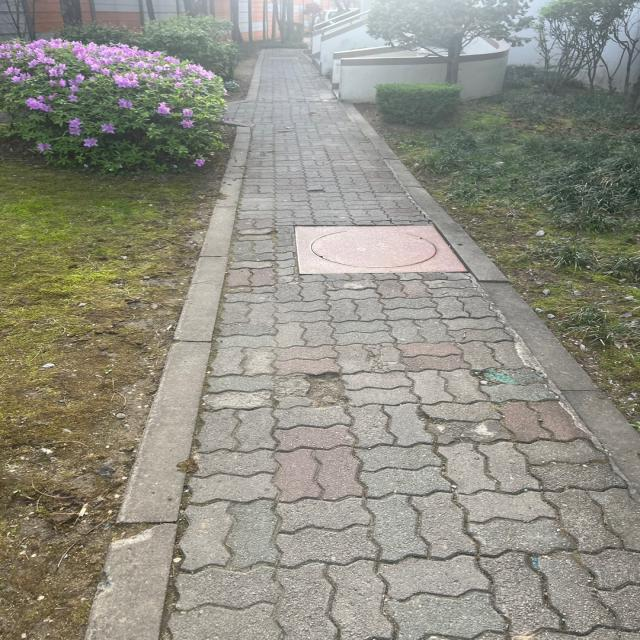Sewer Cover: (261, 208, 488, 300)
